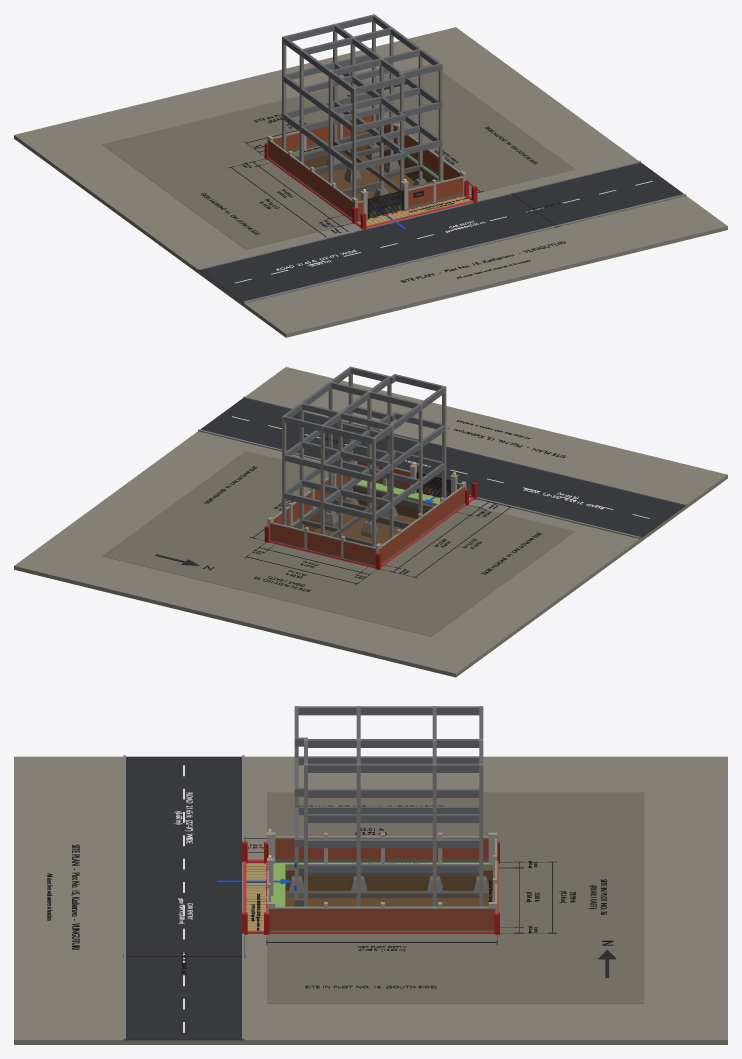
The model's file is 04_site_wall_pillars_beams.glb.
3 renders of one model, top to bottom at view 1: azimuth 30°, elevation 25°; view 2: azimuth 150°, elevation 25°; view 3: azimuth 270°, elevation 25°, orthographic. The views are drawn at different scales.
Parts seen in each view (by area): view 1: Pit_01_Terrain, 01_Neighbour_Plot, 05_Road, PIL_Concrete, BEAM_Roof, BEAM_SecondFloor, BEAM_FirstFloor, 05_Kerb, BEAM_Plinth, Pit_Soil, Wall_North, Wall_Front_with_Gate (+9 smaller); view 2: Pit_01_Terrain, 01_Neighbour_Plot, 05_Road, PIL_Concrete, BEAM_Roof, BEAM_SecondFloor, BEAM_FirstFloor, Wall_Rear, 05_Kerb, BEAM_Plinth, Pit_Soil, Wall_North (+6 smaller); view 3: Pit_01_Terrain, 01_Neighbour_Plot, 05_Road, BEAM_Roof, Wall_South, BEAM_FirstFloor, BEAM_SecondFloor, Pit_Soil, Wall_North, PIL_Concrete, BEAM_Plinth, 05_Kerb (+9 smaller).
Part boxes in pixels (left/top/right/bottom): Pit_01_Terrain: left=14, top=27, right=727, bottom=337; 01_Neighbour_Plot: left=102, top=64, right=575, bottom=249; 05_Road: left=198, top=162, right=685, bottom=303; PIL_Concrete: left=282, top=14, right=442, bottom=197; BEAM_Roof: left=283, top=15, right=442, bottom=94; BEAM_SecondFloor: left=283, top=54, right=442, bottom=132; BEAM_FirstFloor: left=283, top=92, right=442, bottom=170; 05_Kerb: left=198, top=161, right=686, bottom=303; BEAM_Plinth: left=294, top=132, right=442, bottom=210; Pit_Soil: left=304, top=142, right=432, bottom=205; Wall_North: left=268, top=140, right=354, bottom=218; Wall_Front_with_Gate: left=358, top=178, right=463, bottom=221; Pit_01_Terrain: left=14, top=367, right=727, bottom=677; 01_Neighbour_Plot: left=102, top=451, right=575, bottom=636; 05_Road: left=198, top=398, right=685, bottom=538; PIL_Concrete: left=282, top=366, right=446, bottom=547; BEAM_Roof: left=284, top=367, right=444, bottom=443; BEAM_SecondFloor: left=284, top=406, right=444, bottom=481; BEAM_FirstFloor: left=284, top=445, right=444, bottom=520; Wall_Rear: left=270, top=523, right=375, bottom=566; 05_Kerb: left=198, top=396, right=686, bottom=538; BEAM_Plinth: left=290, top=484, right=434, bottom=546; Pit_Soil: left=297, top=488, right=426, bottom=544; Wall_North: left=379, top=486, right=465, bottom=564; Pit_01_Terrain: left=14, top=756, right=727, bottom=1044; 01_Neighbour_Plot: left=267, top=792, right=644, bottom=1003; 05_Road: left=123, top=756, right=244, bottom=1040; BEAM_Roof: left=294, top=706, right=483, bottom=772; Wall_South: left=268, top=909, right=495, bottom=931; BEAM_FirstFloor: left=294, top=806, right=479, bottom=872; BEAM_SecondFloor: left=294, top=756, right=479, bottom=822; Pit_Soil: left=285, top=870, right=492, bottom=906; Wall_North: left=275, top=838, right=488, bottom=862; PIL_Concrete: left=294, top=706, right=483, bottom=906; BEAM_Plinth: left=294, top=867, right=479, bottom=906; 05_Kerb: left=123, top=755, right=244, bottom=1039.
Bounding box in the file's own units: 36.4 × 11.37 × 38.8.
